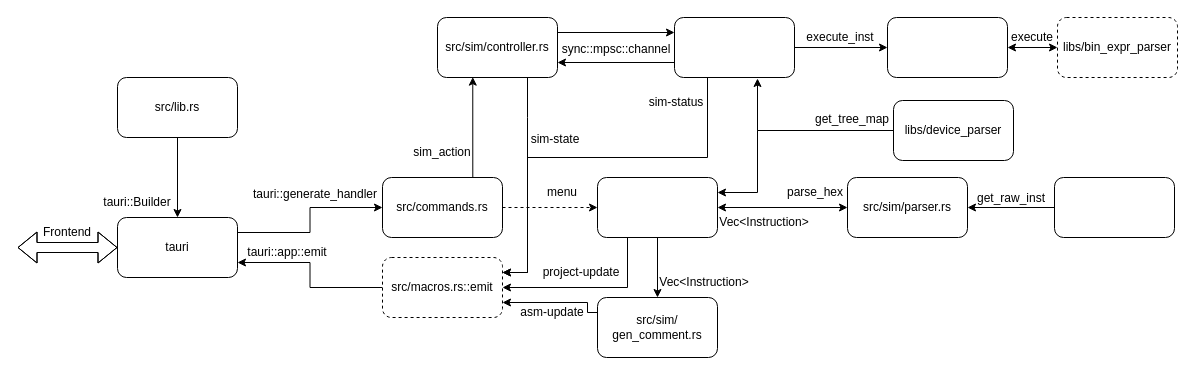
Some shapes in this 1195 by 375 pixel diagram are drawn without their labels. The centre of each missing label's shape, as x and y in pixels:
libs/opcoode_gen: the point at 1114,207
src/project.rs: the point at 657,207
src/sim/sim.rs: the point at 947,47
src/sim/worker.rs: the point at 734,47
